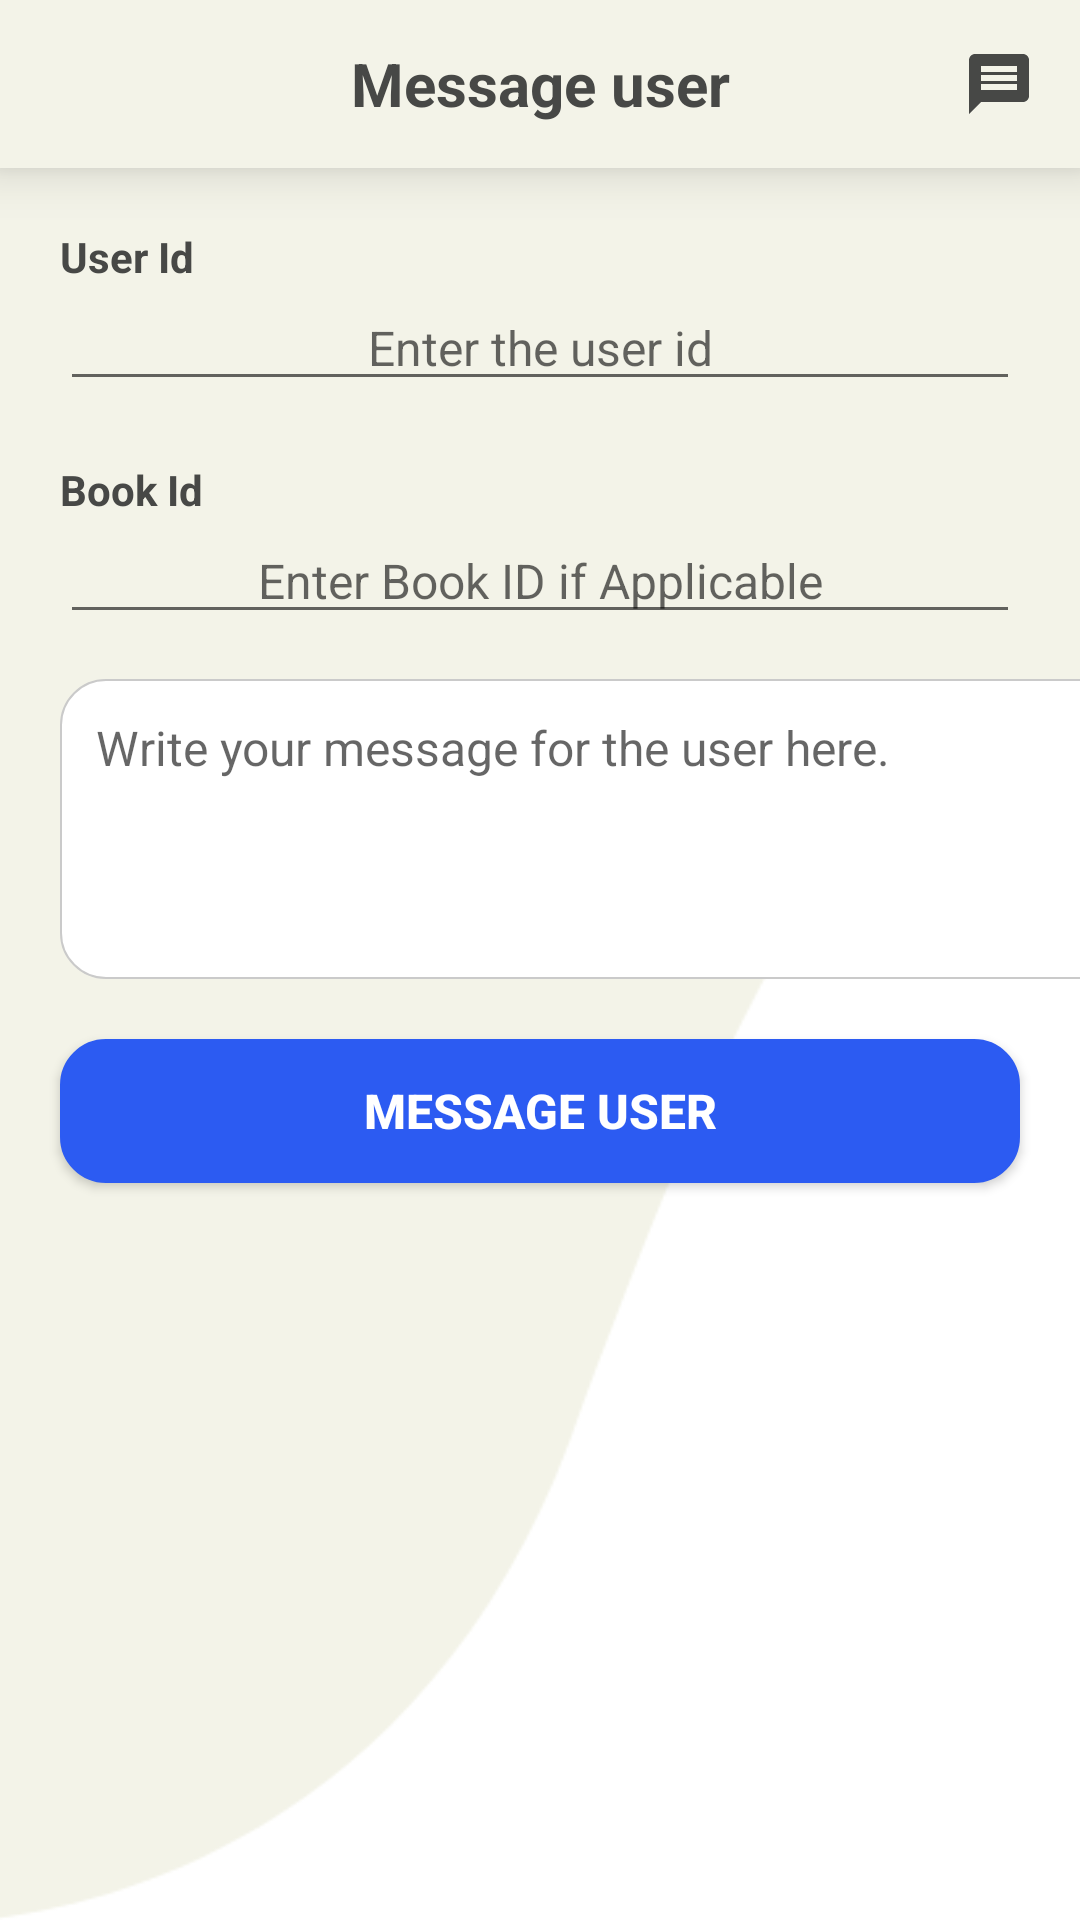

Screen size 1080 × 1920. Icon name, then its box in pixels as (x1, y1, x2, y2):
The icon of message: (969, 54, 1029, 114)
